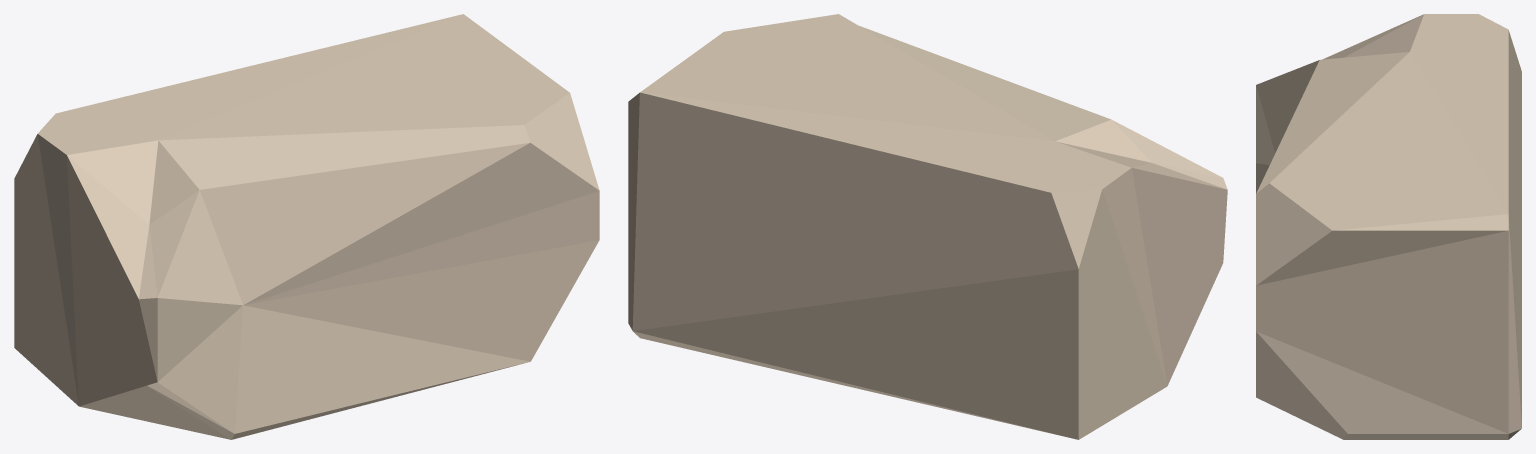
File: Brick_003.fbx
3 renders of one model, left to right at view 1: azimuth 30°, elevation 25°; view 2: azimuth 150°, elevation 25°; view 3: azimuth 270°, elevation 25°, orthographic. The views are drawn at different scales.
Parts seen in each view (by area): view 1: Brick_003; view 2: Brick_003; view 3: Brick_003.
Part boxes in pixels (x1,y1,x2,y2): Brick_003: (14,14,599,439); Brick_003: (628,14,1227,439); Brick_003: (1256,14,1521,439).
Size of the model in its own units: 0.75 by 0.375 by 0.4.
